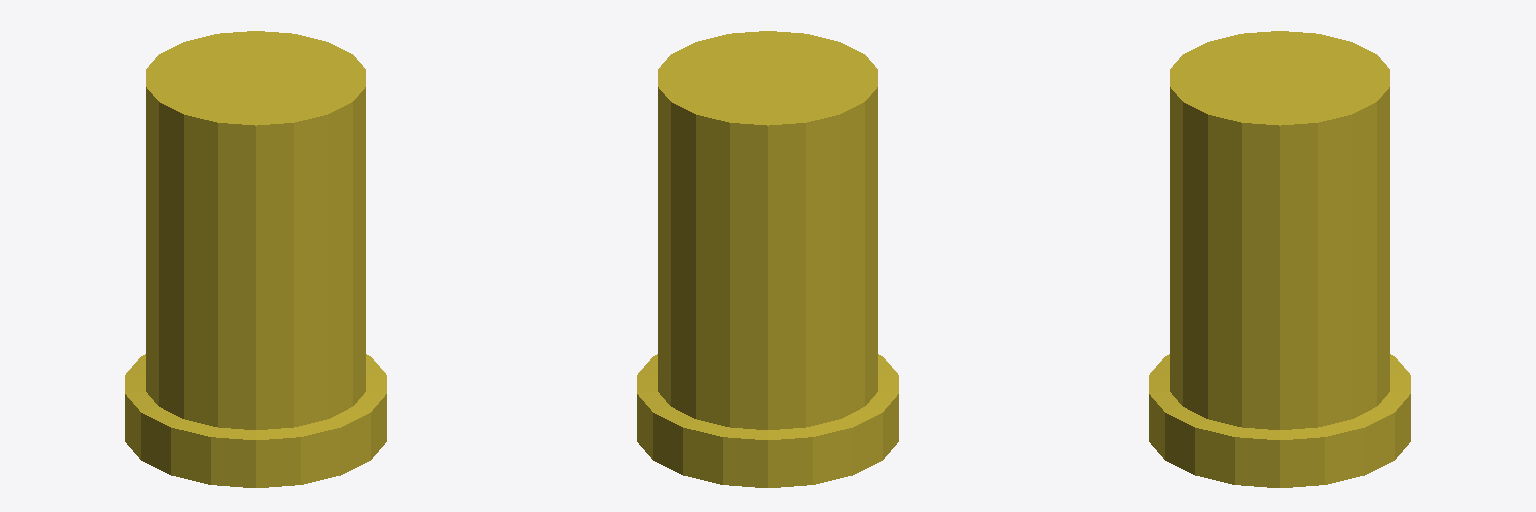
The model's file is PistolCase.obj.
3 renders of one model, left to right at view 1: azimuth 30°, elevation 25°; view 2: azimuth 150°, elevation 25°; view 3: azimuth 270°, elevation 25°, orthographic.
Parts seen in each view (by area): view 1: PistolCase; view 2: PistolCase; view 3: PistolCase.
Part boxes in pixels (bbox=[...]): PistolCase: bbox=[125, 31, 386, 487]; PistolCase: bbox=[637, 31, 898, 487]; PistolCase: bbox=[1149, 31, 1410, 487].
Bounding box in the file's own units: 4.73 × 7 × 4.66.